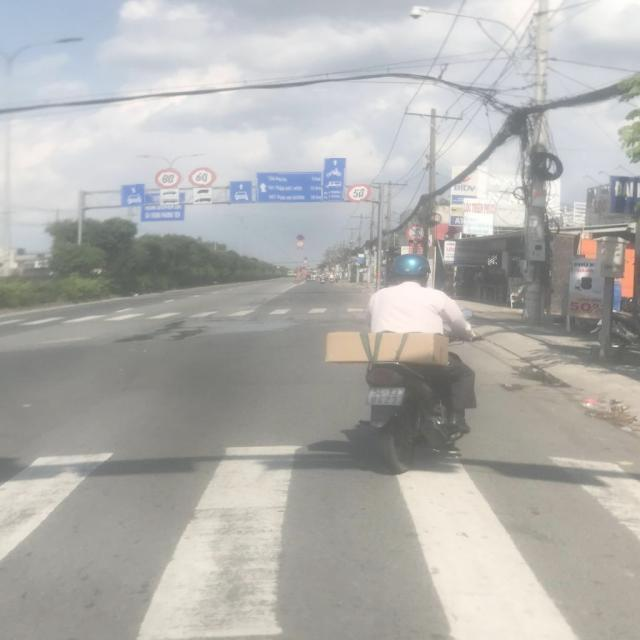127-toc-do-toi-da-50: (347, 184, 371, 202)
127-toc-do-toi-da-60: (188, 167, 216, 188)
127-toc-do-toi-da-80: (155, 168, 182, 188)
